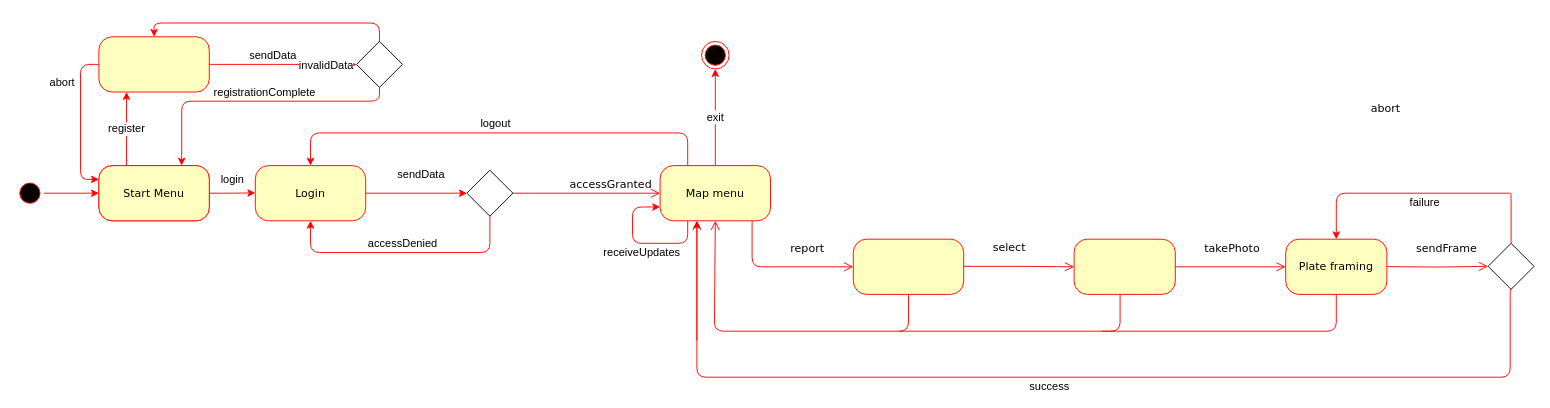
Image size: 1550x408. Some labels were removed from this diagram. The centre of each missing label's shape, as x and y in pixels:
"Open camera" belongs at (x=1124, y=266).
"Registration" belongs at (x=153, y=64).
"Select Violation" belongs at (x=908, y=266).
